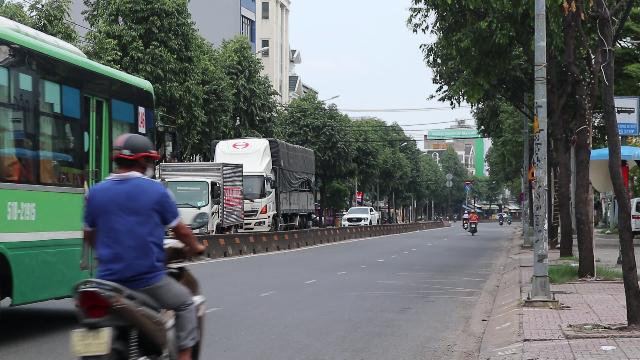helmet: (106, 132, 160, 178)
licenseplate: (70, 328, 112, 354)
motorcyclist: (61, 131, 211, 360)
